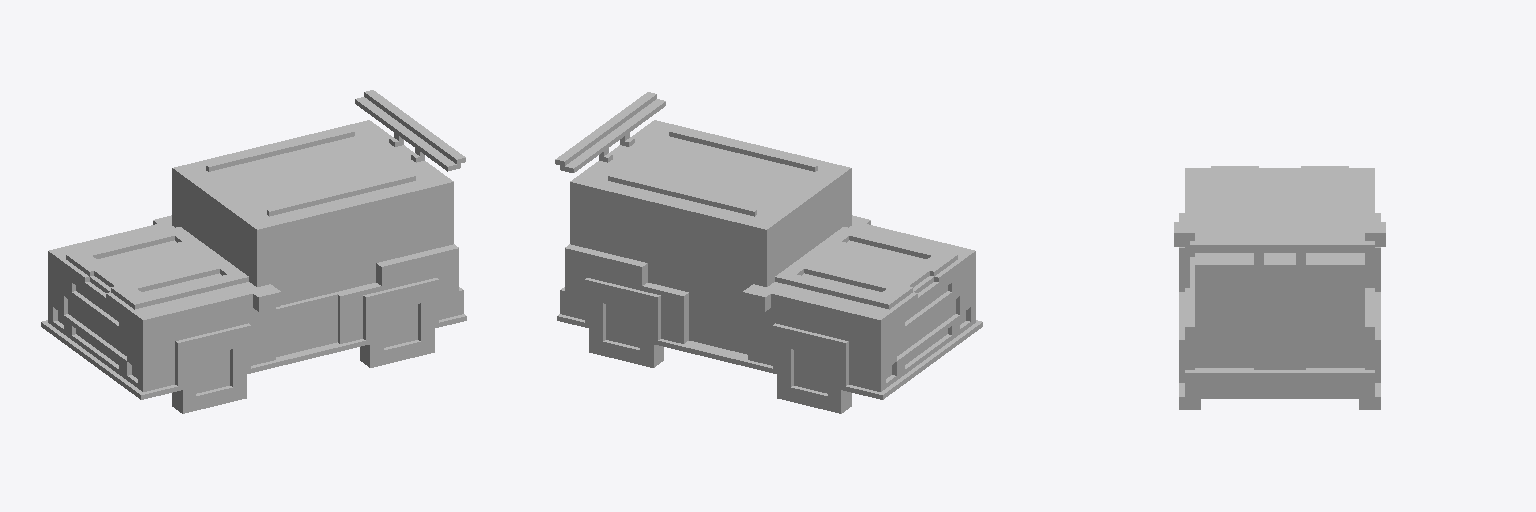
The model's file is alll cars3-114.obj.
3 views of the same model, side by side, from view 1: azimuth 30°, elevation 25°; view 2: azimuth 150°, elevation 25°; view 3: azimuth 270°, elevation 25° (orthographic).
Visible parts, largest first — view 1: object 1; view 2: object 1; view 3: object 1.
Part boxes in pixels (x1,y1,x2,y2): object 1: (41,90,466,413); object 1: (555,92,982,413); object 1: (1174,166,1385,409).
Size of the model in its own units: 7.2 by 3.8 by 4.